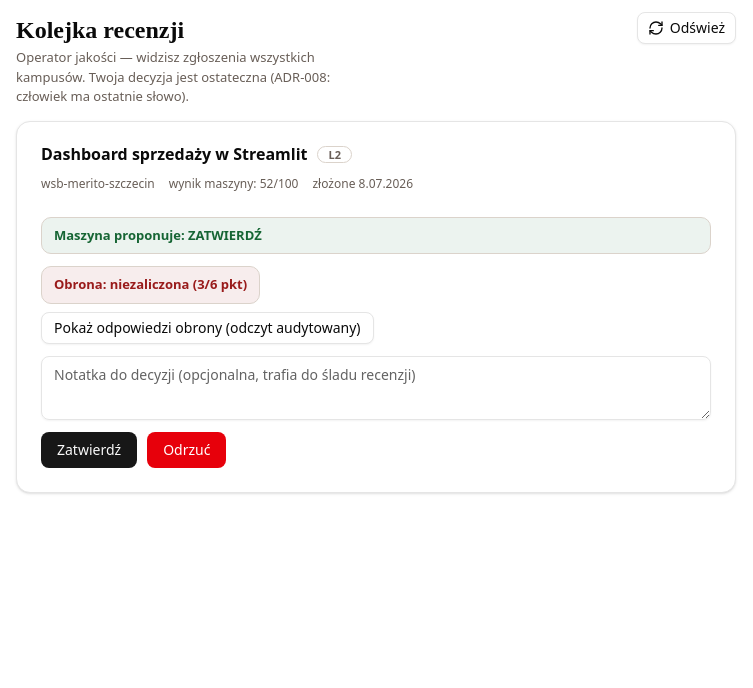
Test: ReviewQueueView › B7/1.16b: projekcja viva → chip stanu obrony; klik pobiera audytowany podgląd Q/A
Check: the text "Obrona: niezaliczona (3/6 pkt)" is shown, box 41,266 -> 260,304
Click the button "Pokaż odpowiedzi obrony (odczyt audytowany)".
click(207, 328)  # box 41,312 -> 374,344
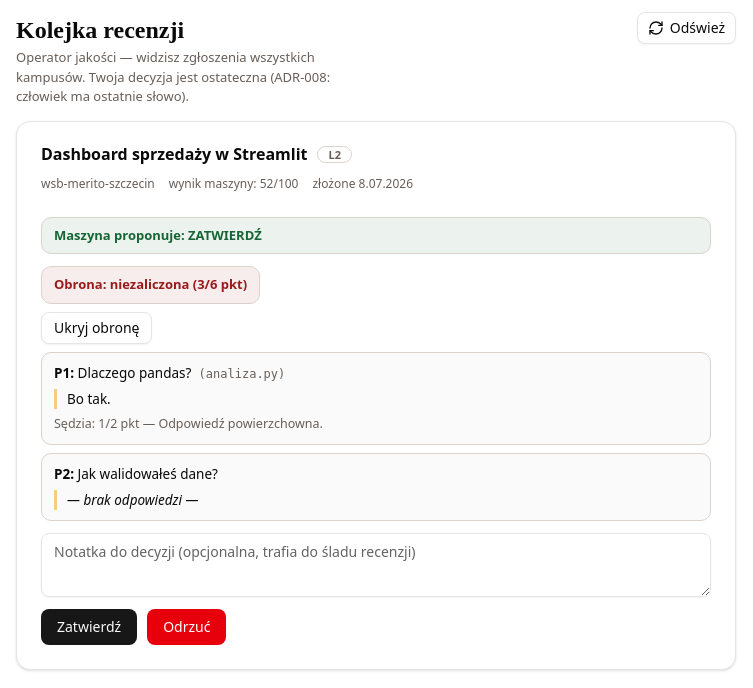
Check: the text "P1: Dlaczego pandas? (analiza.py)" is shown, box 54,364 -> 285,382
Check: the text "Bo tak." is shown, box 54,389 -> 698,409
Check: the text "Sędzia: 1/2 pkt — Odpowiedź powierzchowna." is shown, box 54,415 -> 323,432
// Zwiń/rozwiń NIE pobiera drugi raz (odczyt audytowany — cache po stronie UI).
Click the button "Ukryj obronę".
click(97, 328)  # box 41,312 -> 152,344
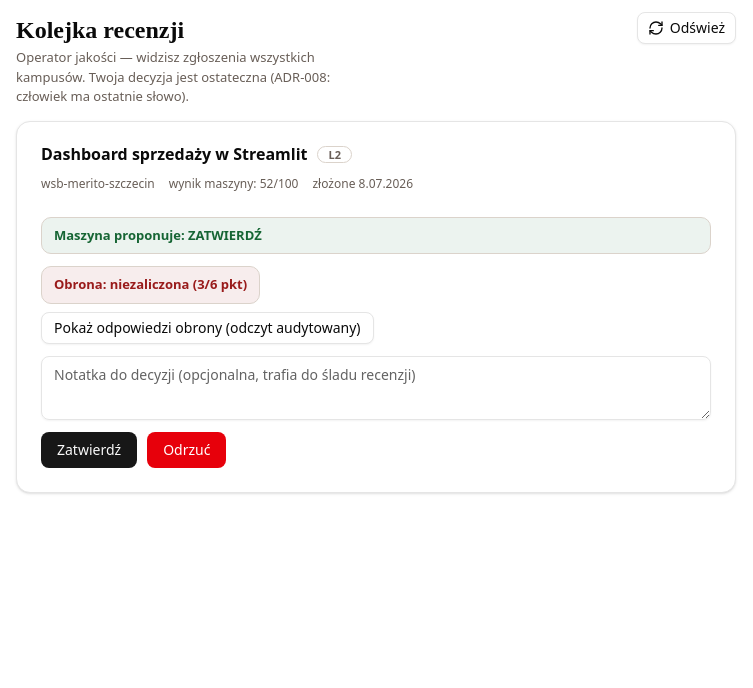
Click the button "Pokaż odpowiedzi obrony (odczyt audytowany)".
click(207, 328)  # box 41,312 -> 374,344
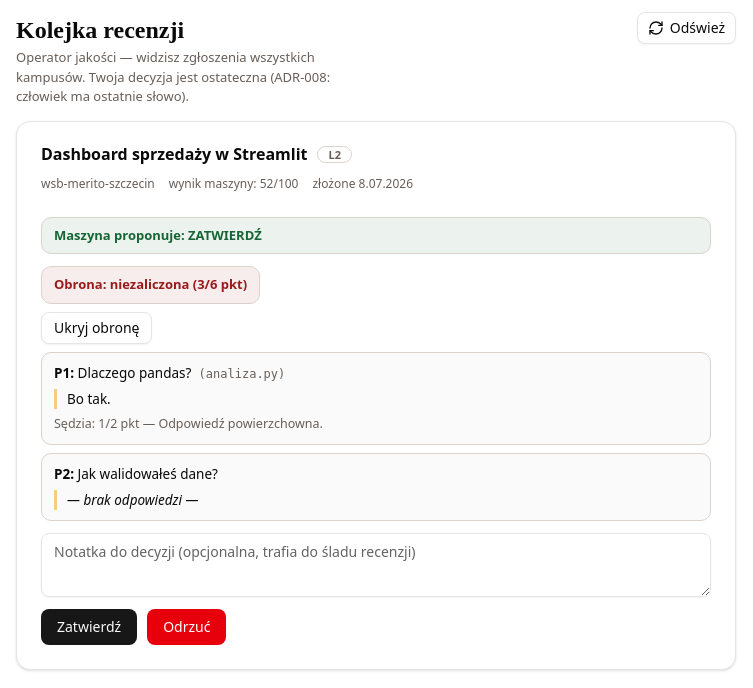
Check: the text "Bo tak." is shown, box 54,389 -> 698,409
